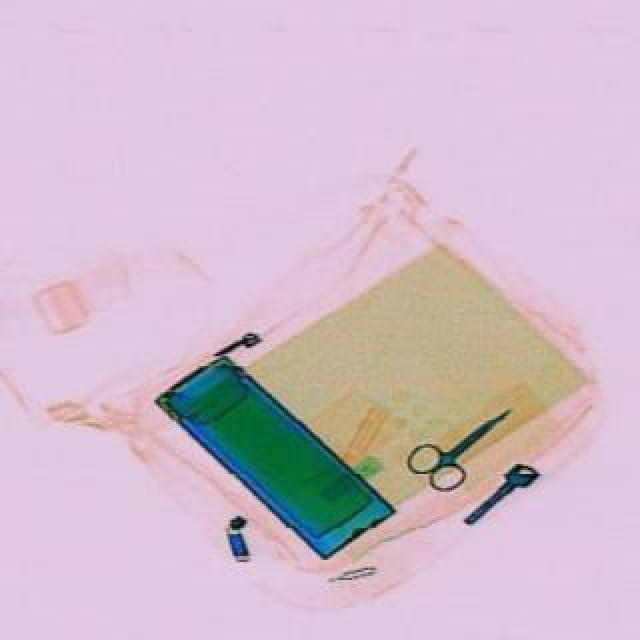pliers: (398, 392, 528, 506)
